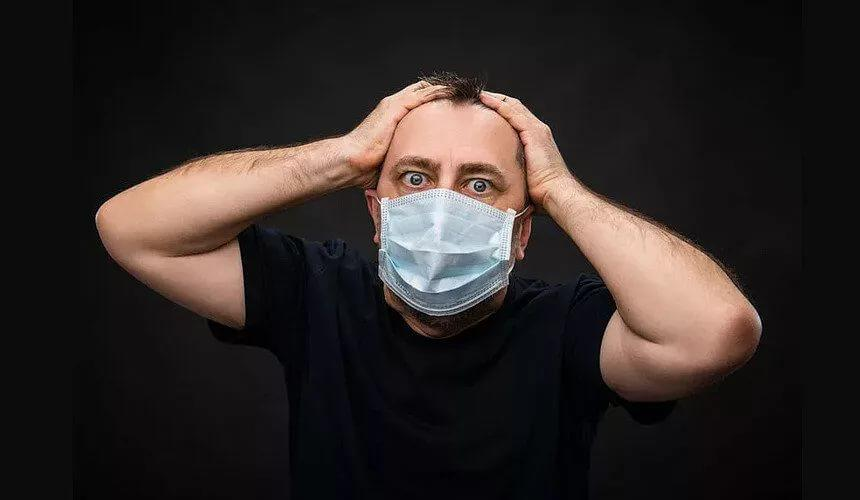mask: (373, 122, 524, 315)
